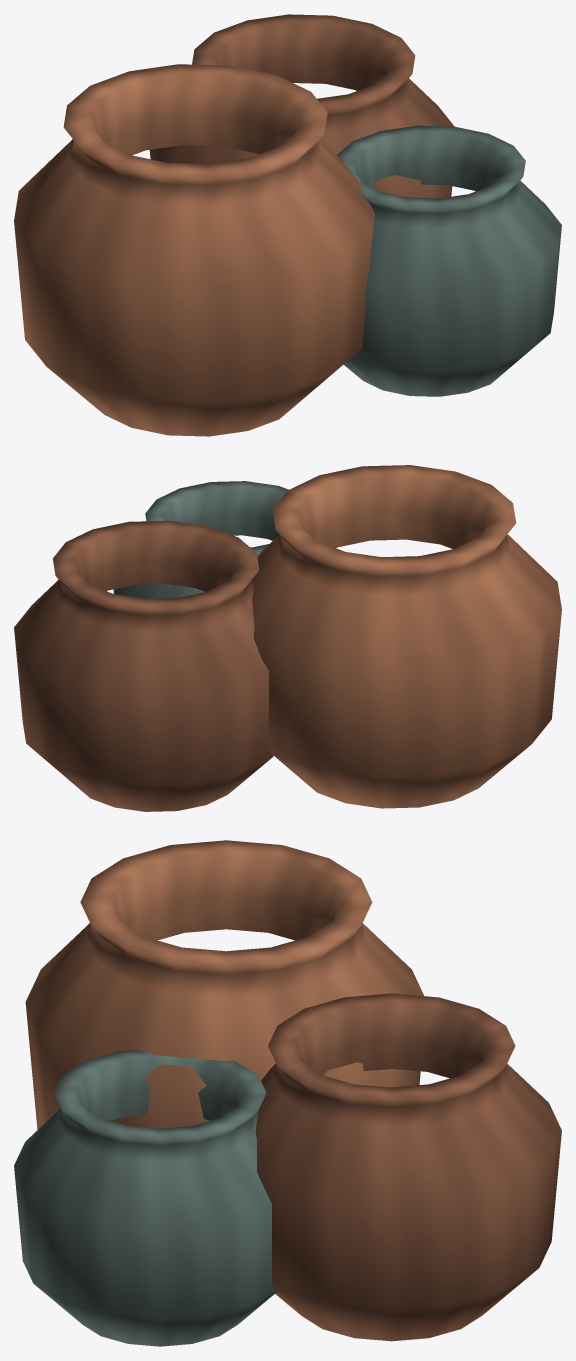
The model's file is pots.glb.
3 renders of one model, top to bottom at view 1: azimuth 30°, elevation 25°; view 2: azimuth 150°, elevation 25°; view 3: azimuth 270°, elevation 25°, orthographic. The views are drawn at different scales.
Visible parts, largest first — view 1: pots; view 2: pots; view 3: pots.
Part boxes in pixels (left/top/right/bottom): pots: left=14, top=14, right=561, bottom=436; pots: left=14, top=465, right=561, bottom=811; pots: left=14, top=840, right=561, bottom=1346.
Bounding box in the file's own units: 0.7716 × 0.42 × 0.6967.
1 material, 1 textured.
